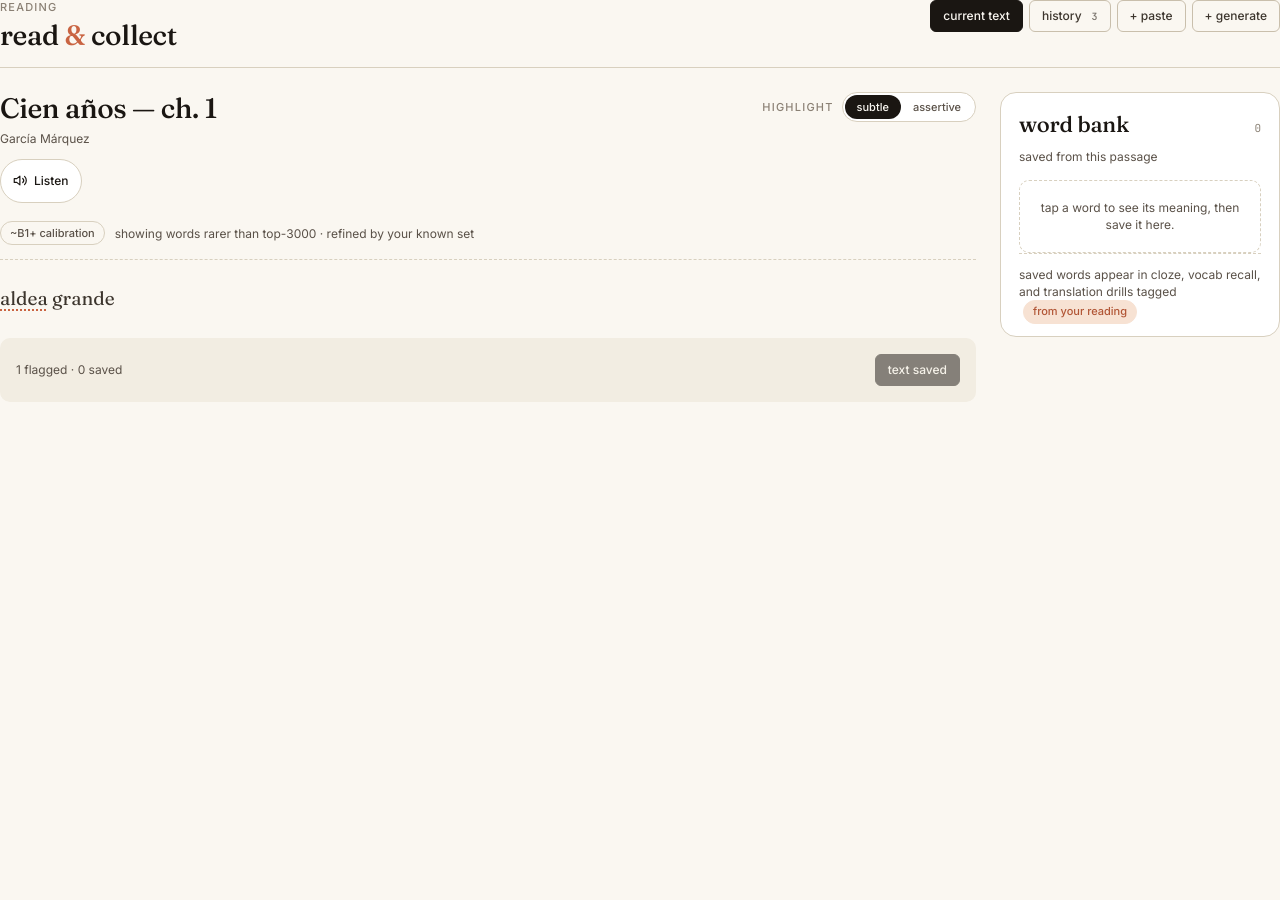
Test: ReadPage — deep annotation flow (Req 3, 9.4, 11) › renders a persisted span instantly and does NOT start the stream (Req 11.3, 11.4, 2.8)
Click the button "aldea".
click(24, 299)  # box [0,282,48,316]
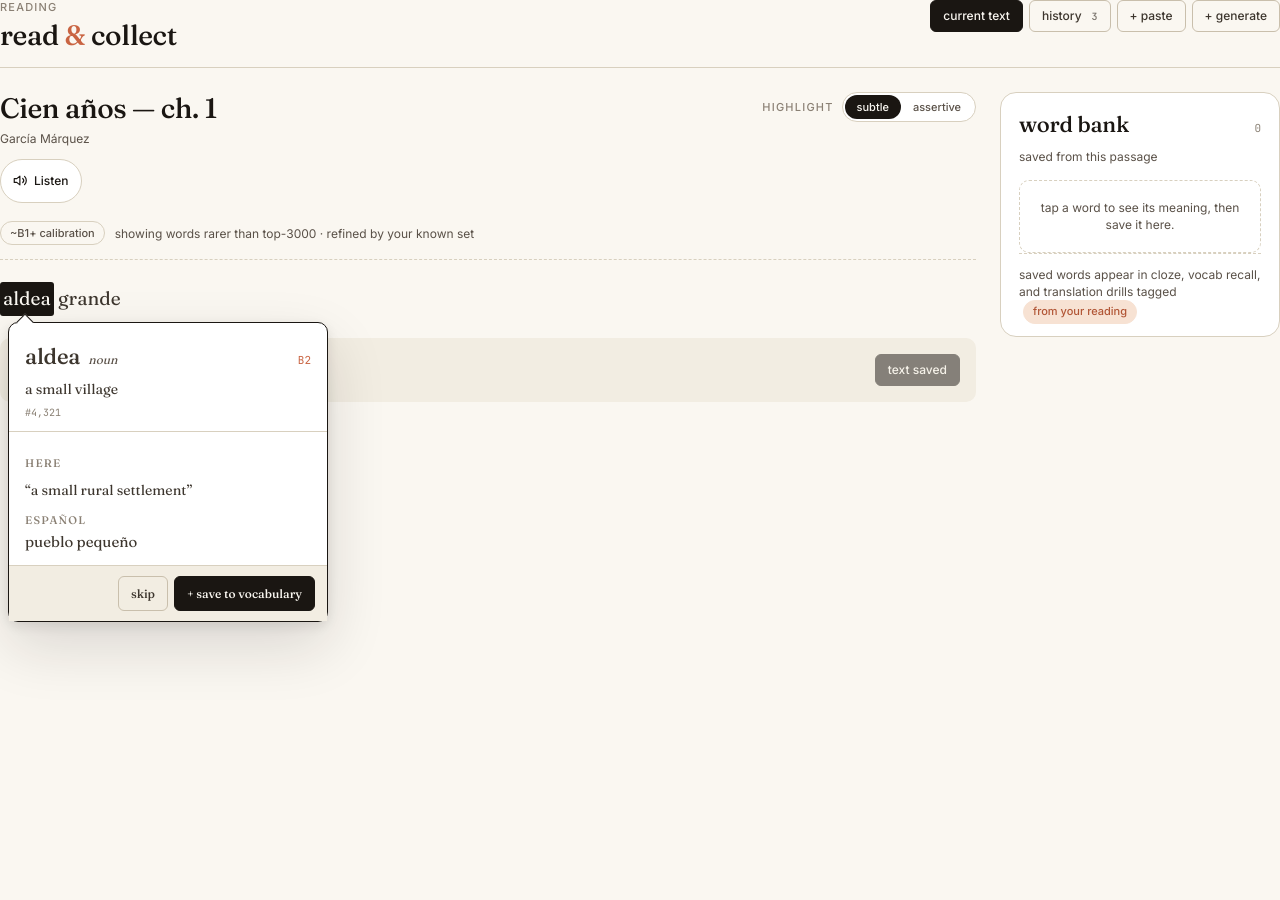
Now the text "pueblo pequeño" is shown, box [25,532,137,551]
